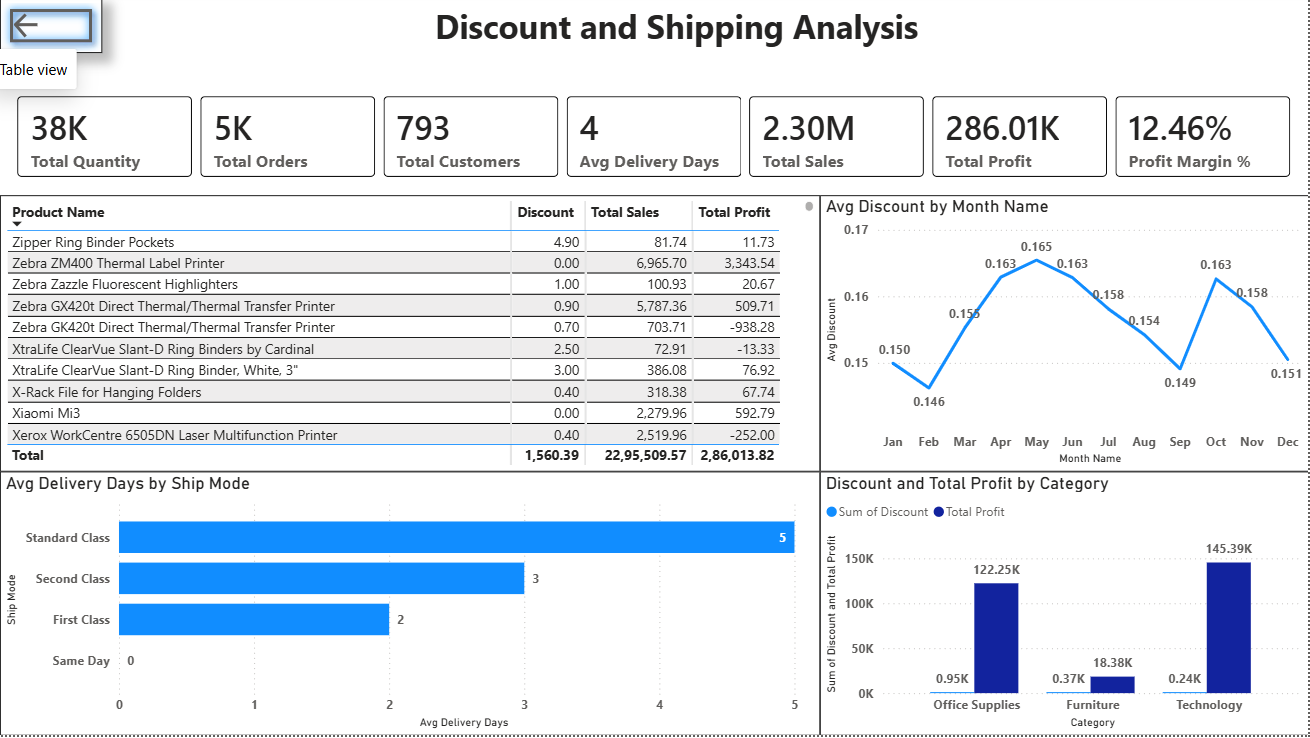

What the dashboard file says about the page in this screenshot:
{"tool":"powerbi","page":{"name":"Page 4","canvas":[1280,720],"ordinal":3},"visuals":[{"type":"textbox","box":[420.7,0,486.7,52.6],"z":0},{"type":"actionButton","box":[0,0,100.3,52.6],"z":1},{"type":"clusteredColumnChart","title":"Discount and Total Profit by Category","fields":{"Category":["Sample - Superstore.Category"],"Y":["Sum(Sample - Superstore.Discount)","All measures.Total Profit"]},"box":[802.2,462.2,478.1,258],"z":2},{"type":"cardVisual","fields":{"Data":["All measures.Total Quantity","All measures.Total Orders","All measures.Total Customers","All measures.Avg Delivery Days","All measures.Total Sales","All measures.Total Profit","All measures.Profit Margin %"]},"box":[0,78.3,1280.3,113.7],"z":3},{"type":"barChart","fields":{"Category":["Sample - Superstore.Ship Mode"],"Y":["All measures.Avg Delivery Days"]},"box":[0,462.2,802.2,258],"z":5},{"type":"lineChart","fields":{"Category":["Sample - Superstore.Month Name"],"Y":["All measures.Avg Discount"]},"box":[802.2,192,478.1,270.2],"z":6},{"type":"tableEx","fields":{"Values":["Sample - Superstore.Product Name","Sum(Sample - Superstore.Discount)","All measures.Total Sales","All measures.Total Profit"]},"box":[0,192,802.2,270.2],"z":7}]}

Visuals, with their boxes on the page's 1280x720 design canvas (x1, y1, x2, y2). These are canvas units, not pixel positions in the 1310x738 screenshot, which may show the page scaled, cropped or inside an application window:
textbox: (421,0,907,53)
actionButton: (0,0,100,53)
"Discount and Total Profit by Category" clusteredColumnChart: (802,462,1280,720)
cardVisual - All measures.Total Quantity x All measures.Total Orders: (0,78,1280,192)
barChart - Sample - Superstore.Ship Mode x All measures.Avg Delivery Days: (0,462,802,720)
lineChart - Sample - Superstore.Month Name x All measures.Avg Discount: (802,192,1280,462)
tableEx - Sample - Superstore.Product Name x Sum(Sample - Superstore.Discount): (0,192,802,462)
